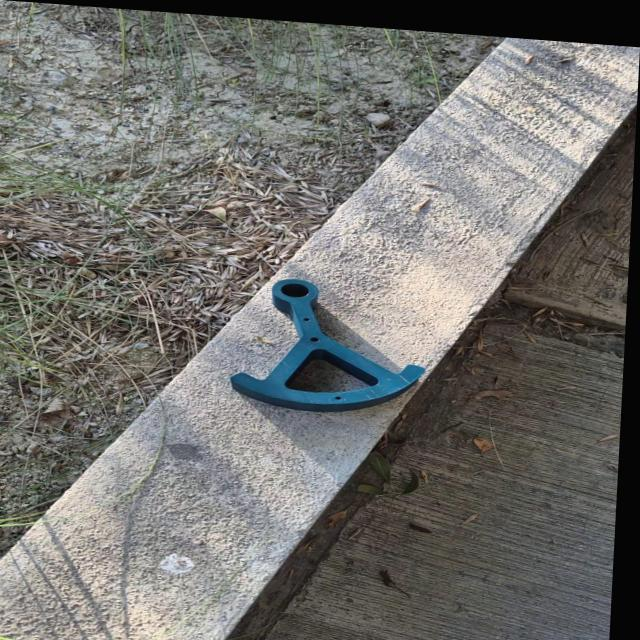haptic: (228, 274, 431, 420)
